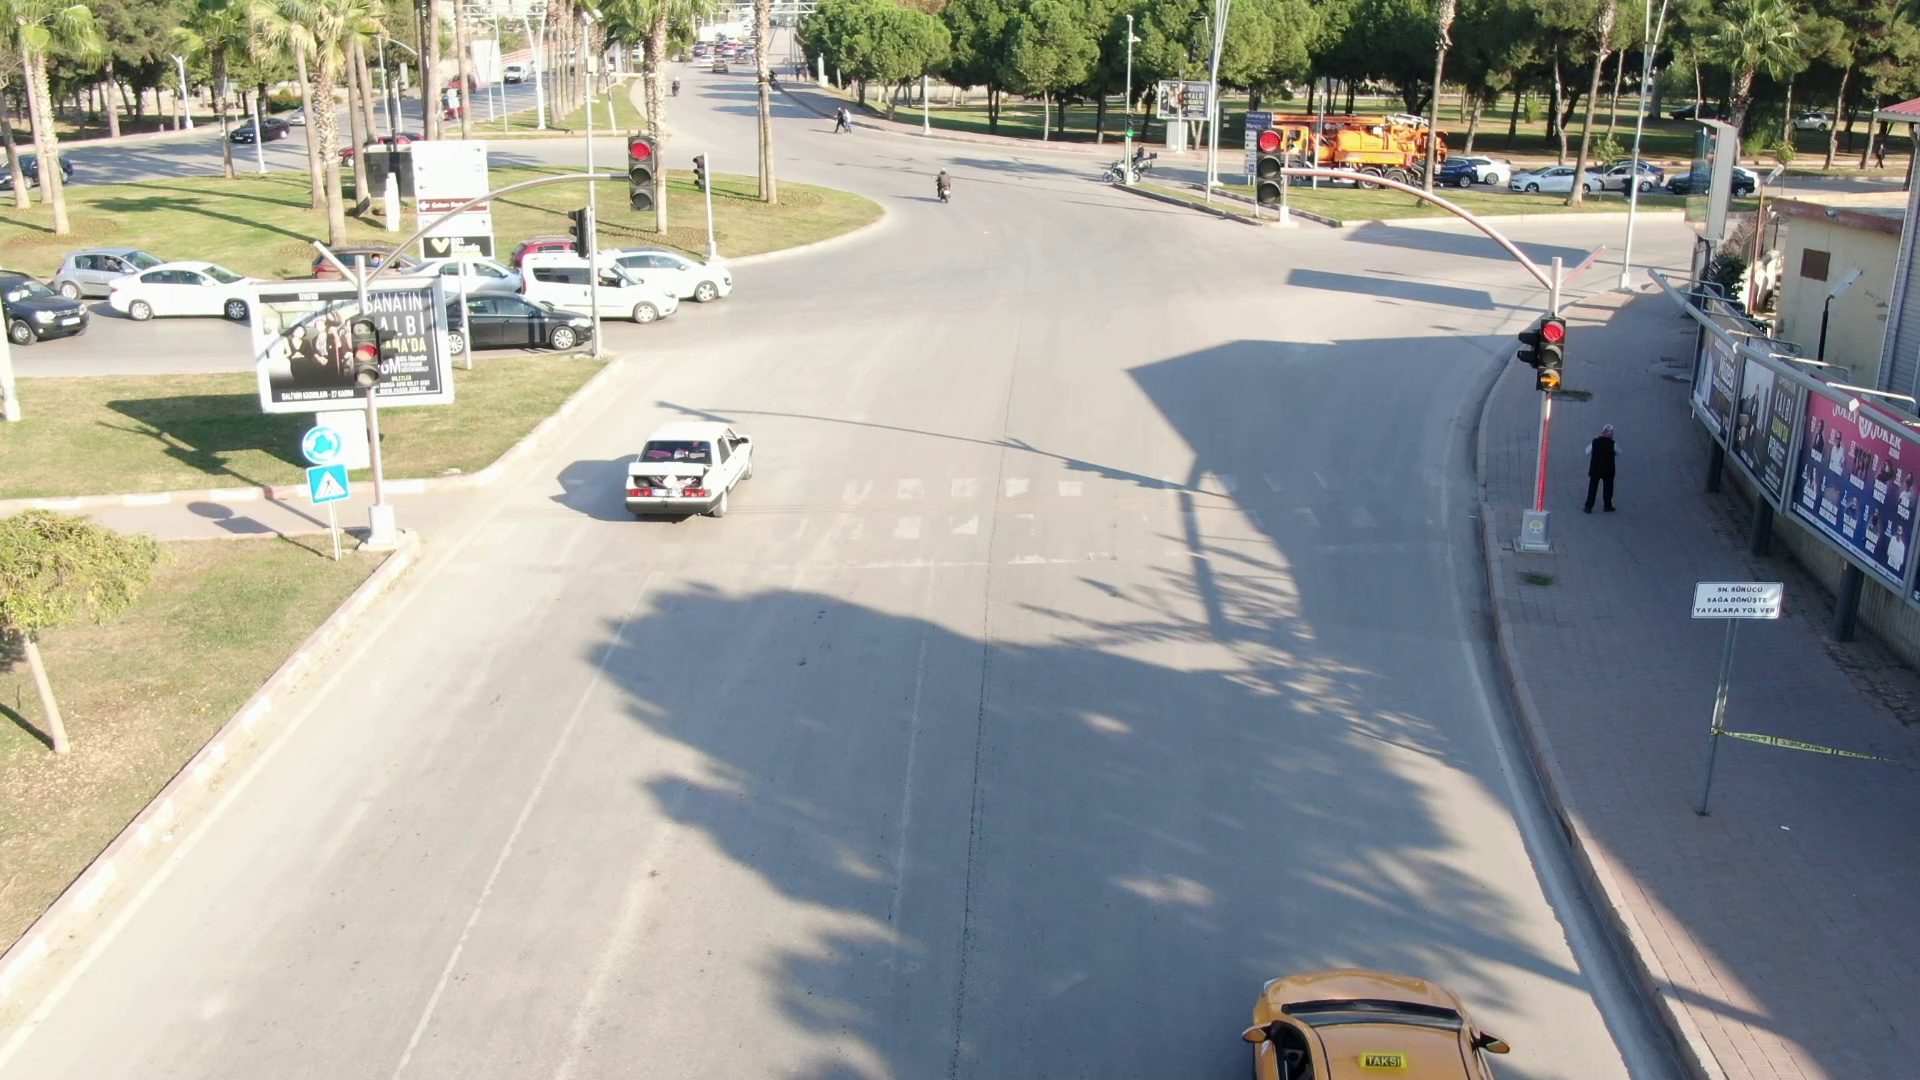car: (621, 425, 765, 521), (94, 253, 270, 323), (510, 241, 674, 317), (447, 282, 590, 351), (619, 235, 739, 302)
person: (1582, 414, 1633, 519), (927, 170, 961, 200)
